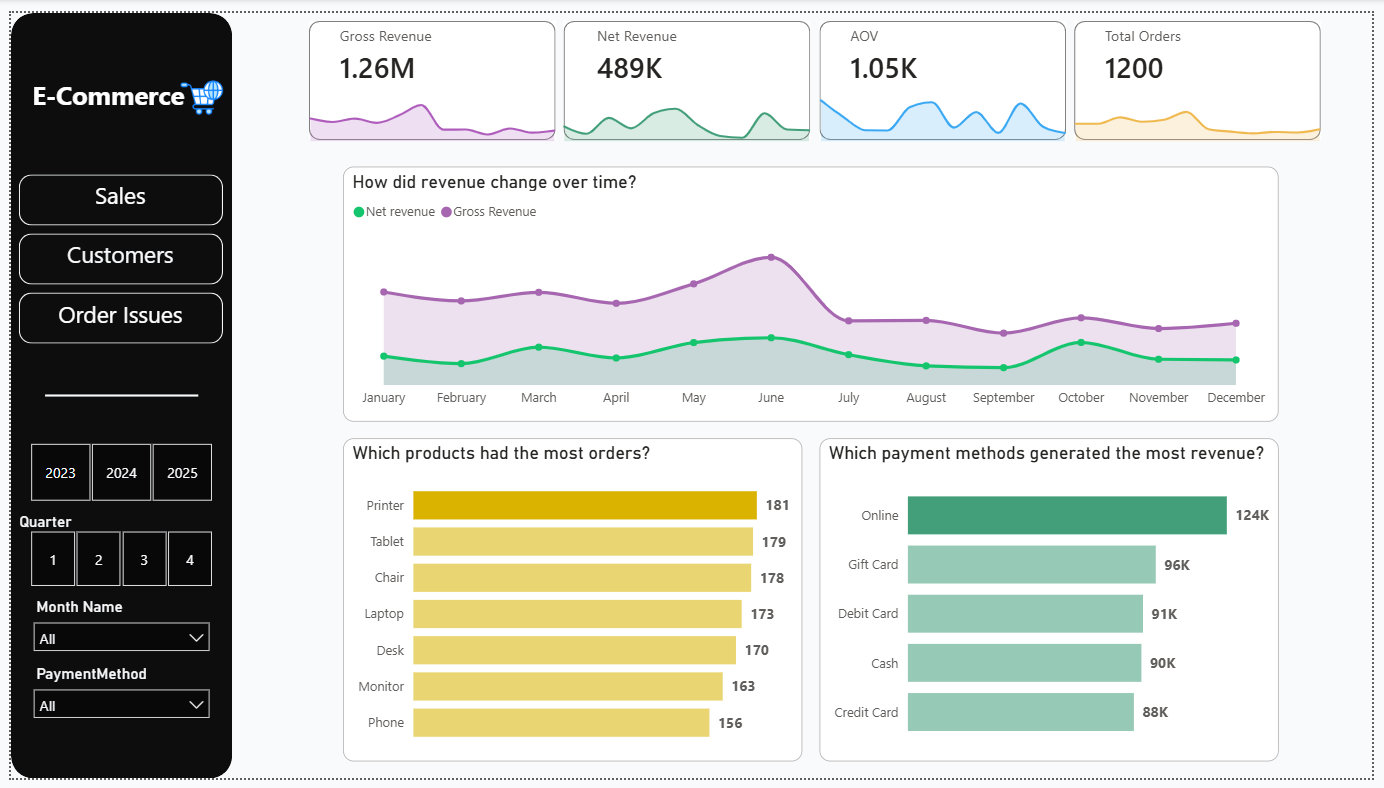

The dashboard page shown, as its layout file describes it:
{"tool":"powerbi","page":{"name":"Sales","canvas":[1280,720],"ordinal":0},"visuals":[{"type":"shape","box":[0,0,208,720],"z":0},{"type":"textbox","box":[7.7,55,168,48],"z":0,"group":"g4"},{"type":"image","box":[159.7,55,40,48],"z":1000,"group":"g4"},{"type":"slicer","fields":{"Values":["Date.Year"]},"box":[0,400,208,64],"z":1000},{"type":"slicer","fields":{"Values":["Date.Month Name"]},"box":[16,544,176,64],"z":2000},{"type":"slicer","fields":{"Values":["Date.Quarter"]},"box":[0,464,208,80],"z":3000},{"type":"slicer","fields":{"Values":["Sales.PaymentMethod"]},"box":[16,608,176,64],"z":4000},{"type":"textbox","box":[16,207.3,176,56],"z":4500,"group":"g2"},{"type":"shape","box":[8,207.3,192,48],"z":5000,"group":"g2"},{"type":"shape","box":[32,336,144,48],"z":5000},{"type":"textbox","box":[16,263.3,176,48],"z":5500,"group":"g3"},{"type":"group","id":"g1","title":"Group 1","box":[8,151.3,192,48],"z":6000},{"type":"shape","box":[8,263.3,192,48],"z":6000,"group":"g3"},{"type":"textbox","box":[16,151.3,176,48],"z":6500,"group":"g1"},{"type":"shape","box":[8,151.3,192,48],"z":7000,"group":"g1"},{"type":"group","id":"g2","title":"Group 2","box":[8,207.3,192,56],"z":7000},{"type":"group","id":"g3","title":"Group 3","box":[8,263.3,192,48],"z":8000},{"type":"group","id":"g4","title":"Group 4","box":[7.7,55,192,48],"z":9000},{"type":"group","id":"g5","title":"Group 5","box":[264,0,260,125],"z":10000},{"type":"shape","box":[280,8,232,112],"z":10000,"group":"g5"},{"type":"group","id":"g6","title":"Group 6","box":[504,0,260,125],"z":11000},{"type":"shape","box":[760,8,232,112],"z":12000},{"type":"group","id":"g7","title":"Group 7","box":[760,0,184.6,80],"z":13000},{"type":"shape","box":[520,8,232,112],"z":13000,"group":"g6"},{"type":"shape","box":[1000,8,232,112],"z":14000,"group":"g9"},{"type":"lineChart","fields":{"Category":["Date.Date.Variation.Date Hierarchy.Month"],"Y":["Calculated.AOV"]},"box":[744,64,260,61],"z":14000},{"type":"cardVisual","fields":{"Data":["Calculated.Revenue"]},"box":[522,0,176,80],"z":15000,"group":"g6"},{"type":"group","id":"g8","title":"Group 8","box":[999.9,0,184,80],"z":15000,"group":"g9"},{"type":"lineChart","title":"How did revenue change over time?","fields":{"Category":["Date.Month Name"],"Y":["Calculated.Revenue","Calculated.Net Revenue"]},"box":[312,144,880,240],"z":15000},{"type":"cardVisual","fields":{"Data":["Calculated.AOV"]},"box":[760,0,184.6,80],"z":16000,"group":"g7"},{"type":"clusteredBarChart","title":"Which products had the most orders?","fields":{"Category":["Sales.Product"],"Y":["Calculated.Total Orders"]},"box":[312,400,432,304],"z":16000},{"type":"cardVisual","fields":{"Data":["Calculated.Total Orders"]},"box":[999.9,0,184,80],"z":17000,"group":"g8"},{"type":"lineChart","fields":{"Category":["Date.Date.Variation.Date Hierarchy.Month"],"Y":["Calculated.Total Orders"]},"box":[984,64,260,61],"z":17000,"group":"g9"},{"type":"clusteredBarChart","title":"Which payment methods generated the most revenue?","fields":{"Category":["Sales.PaymentMethod"],"Y":["Calculated.Revenue"]},"box":[760,400,432,304],"z":17000},{"type":"group","id":"g9","title":"Group 9","box":[984,0,264,128],"z":18000},{"type":"cardVisual","fields":{"Data":["Calculated.Gross Revenue"]},"box":[280,0,200,80],"z":19000,"group":"g5"},{"type":"lineChart","fields":{"Category":["Date.Date.Variation.Date Hierarchy.Month"],"Y":["Calculated.Gross Revenue"]},"box":[264,64,260,61],"z":20000,"group":"g5"},{"type":"lineChart","fields":{"Category":["Date.Date.Variation.Date Hierarchy.Month"],"Y":["Calculated.Revenue"]},"box":[504,64,260,61],"z":21000,"group":"g6"}]}

Visuals, with their boxes in screenshot pixels (x1, y1, x2, y2), scaled from the page's 1280x720 canvas onto the 1384x788 screenshot:
shape: 0:0:225:787
textbox: 8:60:190:113
image: 173:60:216:113
slicer - Date.Year: 0:438:225:508
slicer - Date.Month Name: 17:595:208:665
slicer - Date.Quarter: 0:508:225:595
slicer - Sales.PaymentMethod: 17:665:208:735
textbox: 17:227:208:288
shape: 9:227:216:279
shape: 35:368:190:420
textbox: 17:288:208:341
"Group 1" group: 9:166:216:218
shape: 9:288:216:341
textbox: 17:166:208:218
shape: 9:166:216:218
"Group 2" group: 9:227:216:288
"Group 3" group: 9:288:216:341
"Group 4" group: 8:60:216:113
"Group 5" group: 285:0:567:137
shape: 303:9:554:131
"Group 6" group: 545:0:826:137
shape: 822:9:1073:131
"Group 7" group: 822:0:1021:88
shape: 562:9:813:131
shape: 1081:9:1332:131
lineChart - Date.Date.Variation.Date Hierarchy.Month x Calculated.AOV: 804:70:1086:137
cardVisual - Calculated.Revenue: 564:0:755:88
"Group 8" group: 1081:0:1280:88
"How did revenue change over time?" lineChart: 337:158:1289:420
cardVisual - Calculated.AOV: 822:0:1021:88
"Which products had the most orders?" clusteredBarChart: 337:438:804:770
cardVisual - Calculated.Total Orders: 1081:0:1280:88
lineChart - Date.Date.Variation.Date Hierarchy.Month x Calculated.Total Orders: 1064:70:1345:137
"Which payment methods generated the most revenue?" clusteredBarChart: 822:438:1289:770
"Group 9" group: 1064:0:1349:140
cardVisual - Calculated.Gross Revenue: 303:0:519:88
lineChart - Date.Date.Variation.Date Hierarchy.Month x Calculated.Gross Revenue: 285:70:567:137
lineChart - Date.Date.Variation.Date Hierarchy.Month x Calculated.Revenue: 545:70:826:137
